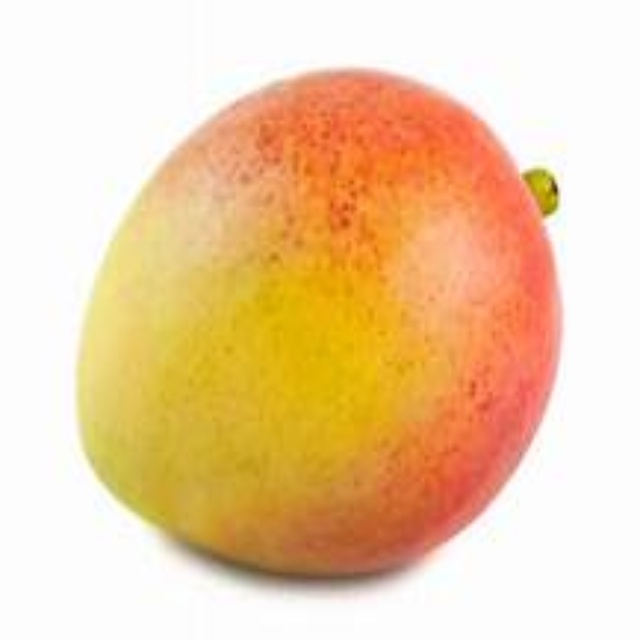mango: (77, 65, 574, 580)
